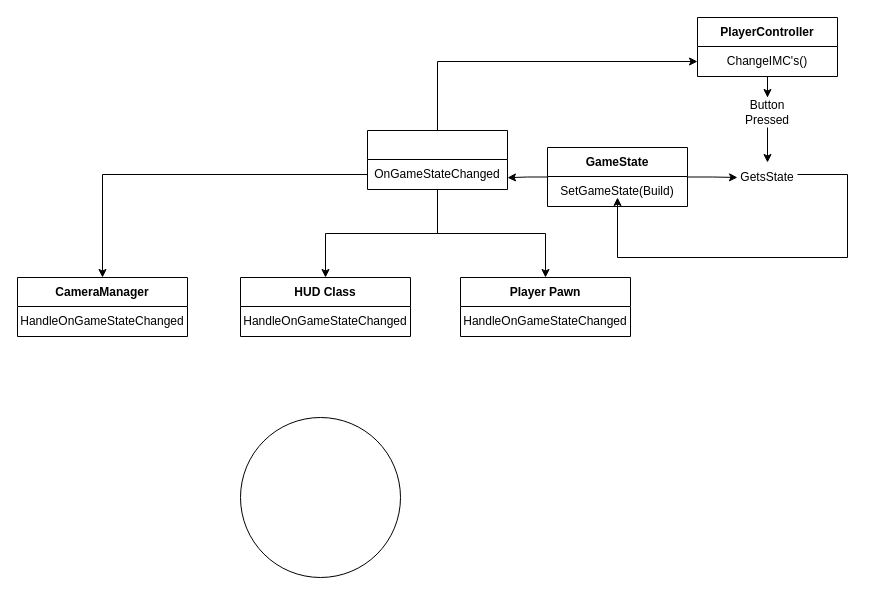
The diagram is 873 pixels wide and 595 high, and some of its shapes have lost their labels. The box of each missing label's shape, as (x1, y1, x2, y2) in pixels:
Do the building: (240, 416, 400, 578)
SignalBus: (366, 130, 508, 190)
